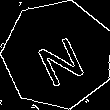N_NW: (29, 24, 87, 86)
